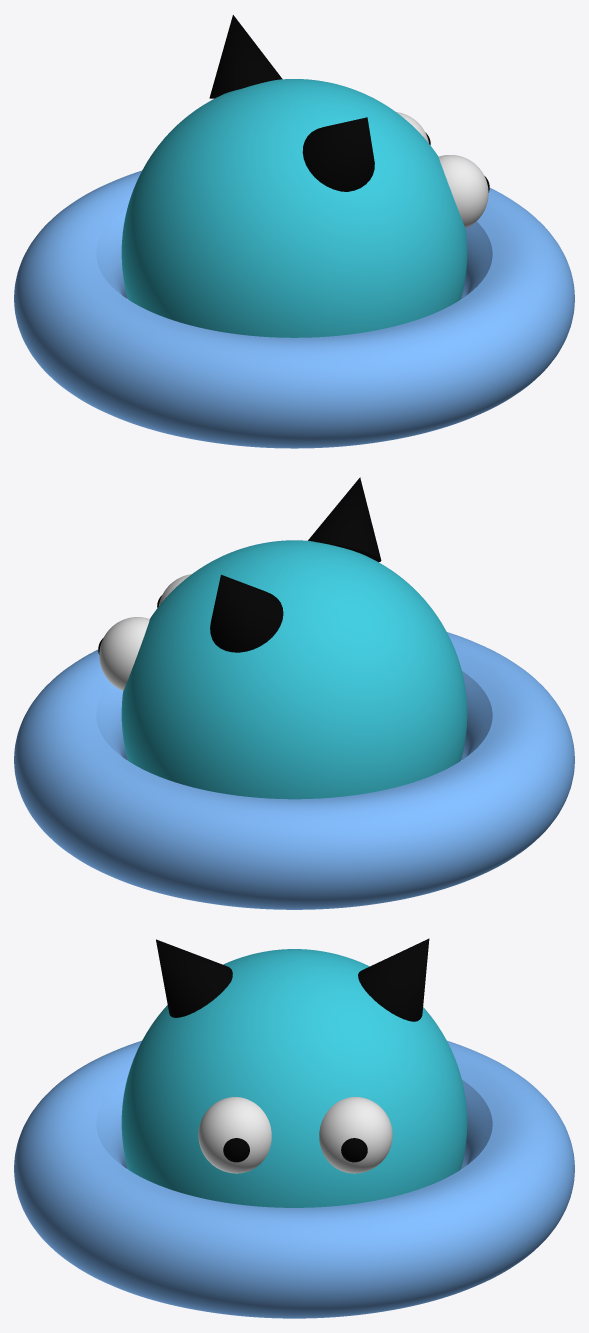
File: Bot.glb
3 views of the same model, one above another, from view 1: azimuth 30°, elevation 25°; view 2: azimuth 150°, elevation 25°; view 3: azimuth 270°, elevation 25° (orthographic).
Visible parts, largest first — view 1: Torus, Sphere, Cone.001, Cone, Sphere.001; view 2: Torus, Sphere, Cone, Cone.001, Sphere.002; view 3: Torus, Sphere, Sphere.002, Sphere.001, Cone, Cone.001, Sphere.004, Sphere.003.
Boxes of the visible parts, bbox=[...] form: Torus: bbox=[14, 170, 574, 448]; Sphere: bbox=[121, 79, 467, 337]; Cone.001: bbox=[302, 117, 374, 191]; Cone: bbox=[209, 15, 282, 98]; Sphere.001: bbox=[438, 155, 488, 228]; Torus: bbox=[14, 632, 574, 909]; Sphere: bbox=[121, 540, 467, 799]; Cone: bbox=[210, 574, 283, 652]; Cone.001: bbox=[308, 477, 381, 562]; Sphere.002: bbox=[99, 617, 149, 690]; Torus: bbox=[14, 1040, 574, 1318]; Sphere: bbox=[121, 949, 467, 1207]; Sphere.002: bbox=[319, 1097, 392, 1173]; Sphere.001: bbox=[198, 1097, 271, 1173]; Cone: bbox=[358, 938, 429, 1021]; Cone.001: bbox=[156, 939, 232, 1017]; Sphere.004: bbox=[341, 1138, 367, 1162]; Sphere.003: bbox=[223, 1138, 249, 1162].
Bounding box in the file's own units: 3.2 × 2.18 × 3.2.
